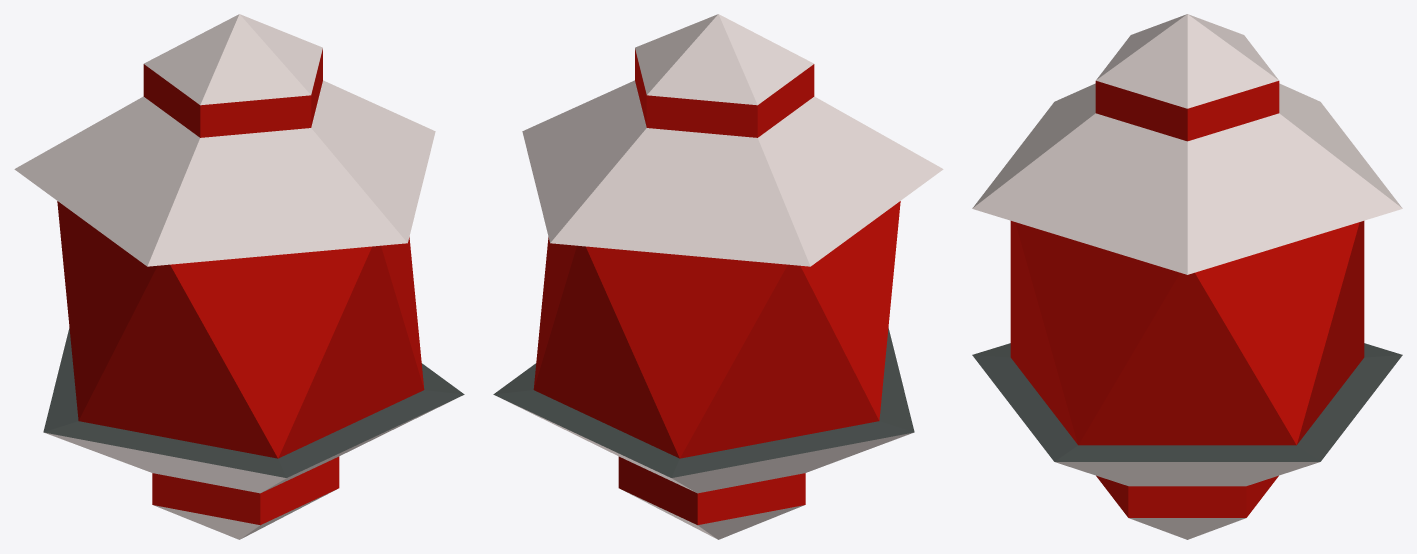
File: enemy_mine.fbx
3 views of the same model, side by side, from view 1: azimuth 30°, elevation 25°; view 2: azimuth 150°, elevation 25°; view 3: azimuth 270°, elevation 25° (orthographic).
Visible parts, largest first — view 1: Icosphere; view 2: Icosphere; view 3: Icosphere.
Boxes of the visible parts, x1=… form: Icosphere: x1=14, y1=14, x2=464, y2=539; Icosphere: x1=493, y1=14, x2=943, y2=539; Icosphere: x1=972, y1=14, x2=1402, y2=539.
Bounding box in the file's own units: 1.79 × 1.7 × 2.29.
